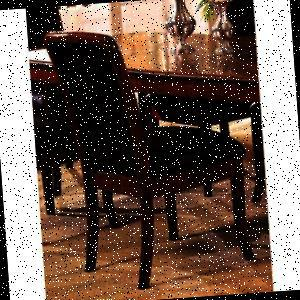Silla: (46, 16, 258, 293)
